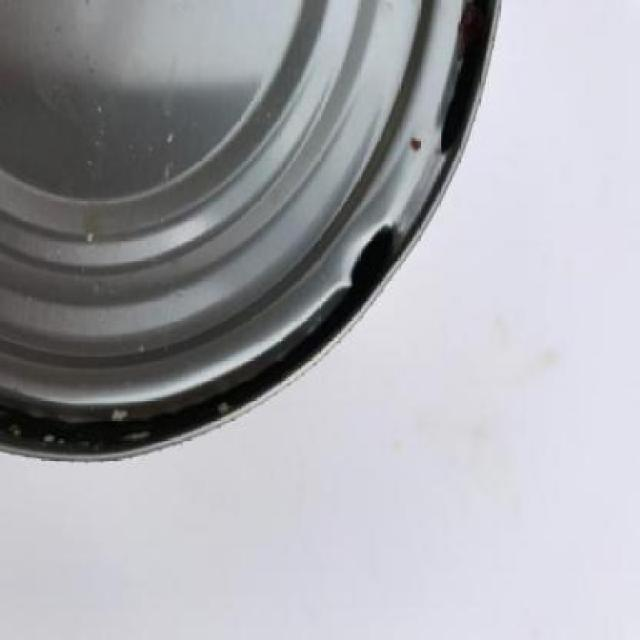METAL: (2, 2, 506, 463)
